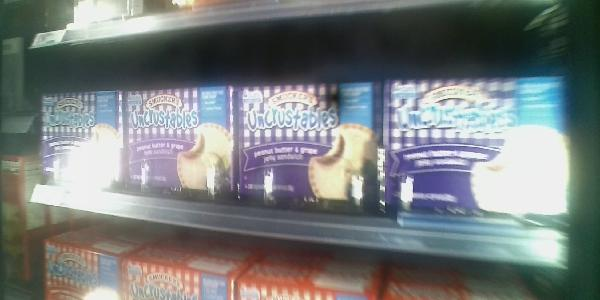icecream: (387, 82, 569, 225), (239, 87, 383, 213), (124, 89, 233, 203), (38, 92, 122, 192), (127, 249, 235, 300), (44, 232, 120, 300), (395, 263, 503, 300), (245, 275, 366, 300)
